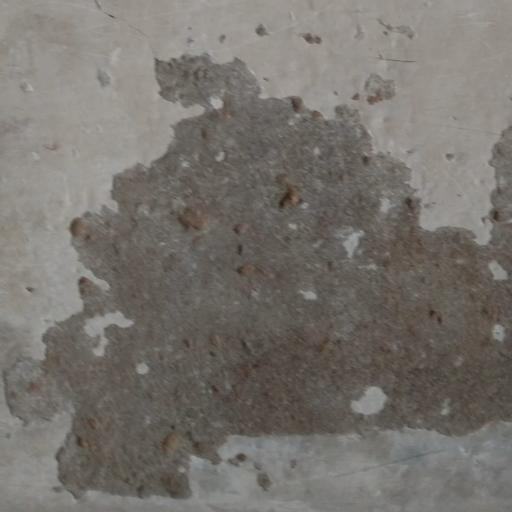peeling: (36, 42, 512, 512)
